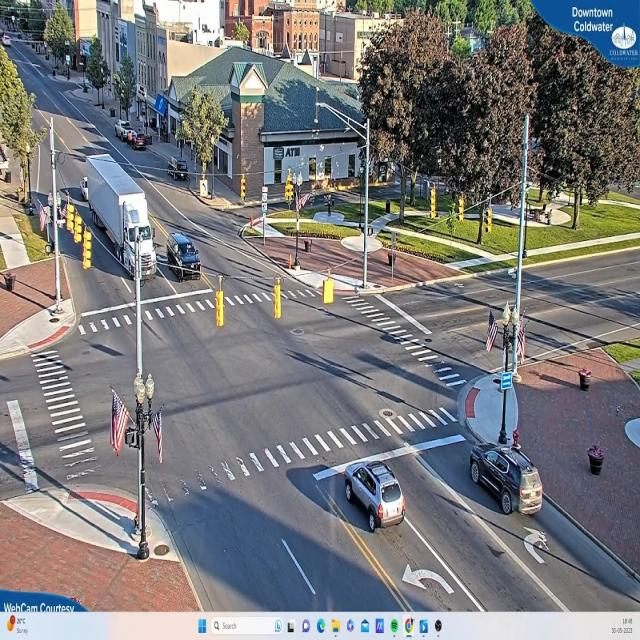car: (343, 462, 409, 533), (167, 157, 189, 179), (132, 135, 148, 150)
truck: (81, 150, 158, 286)
